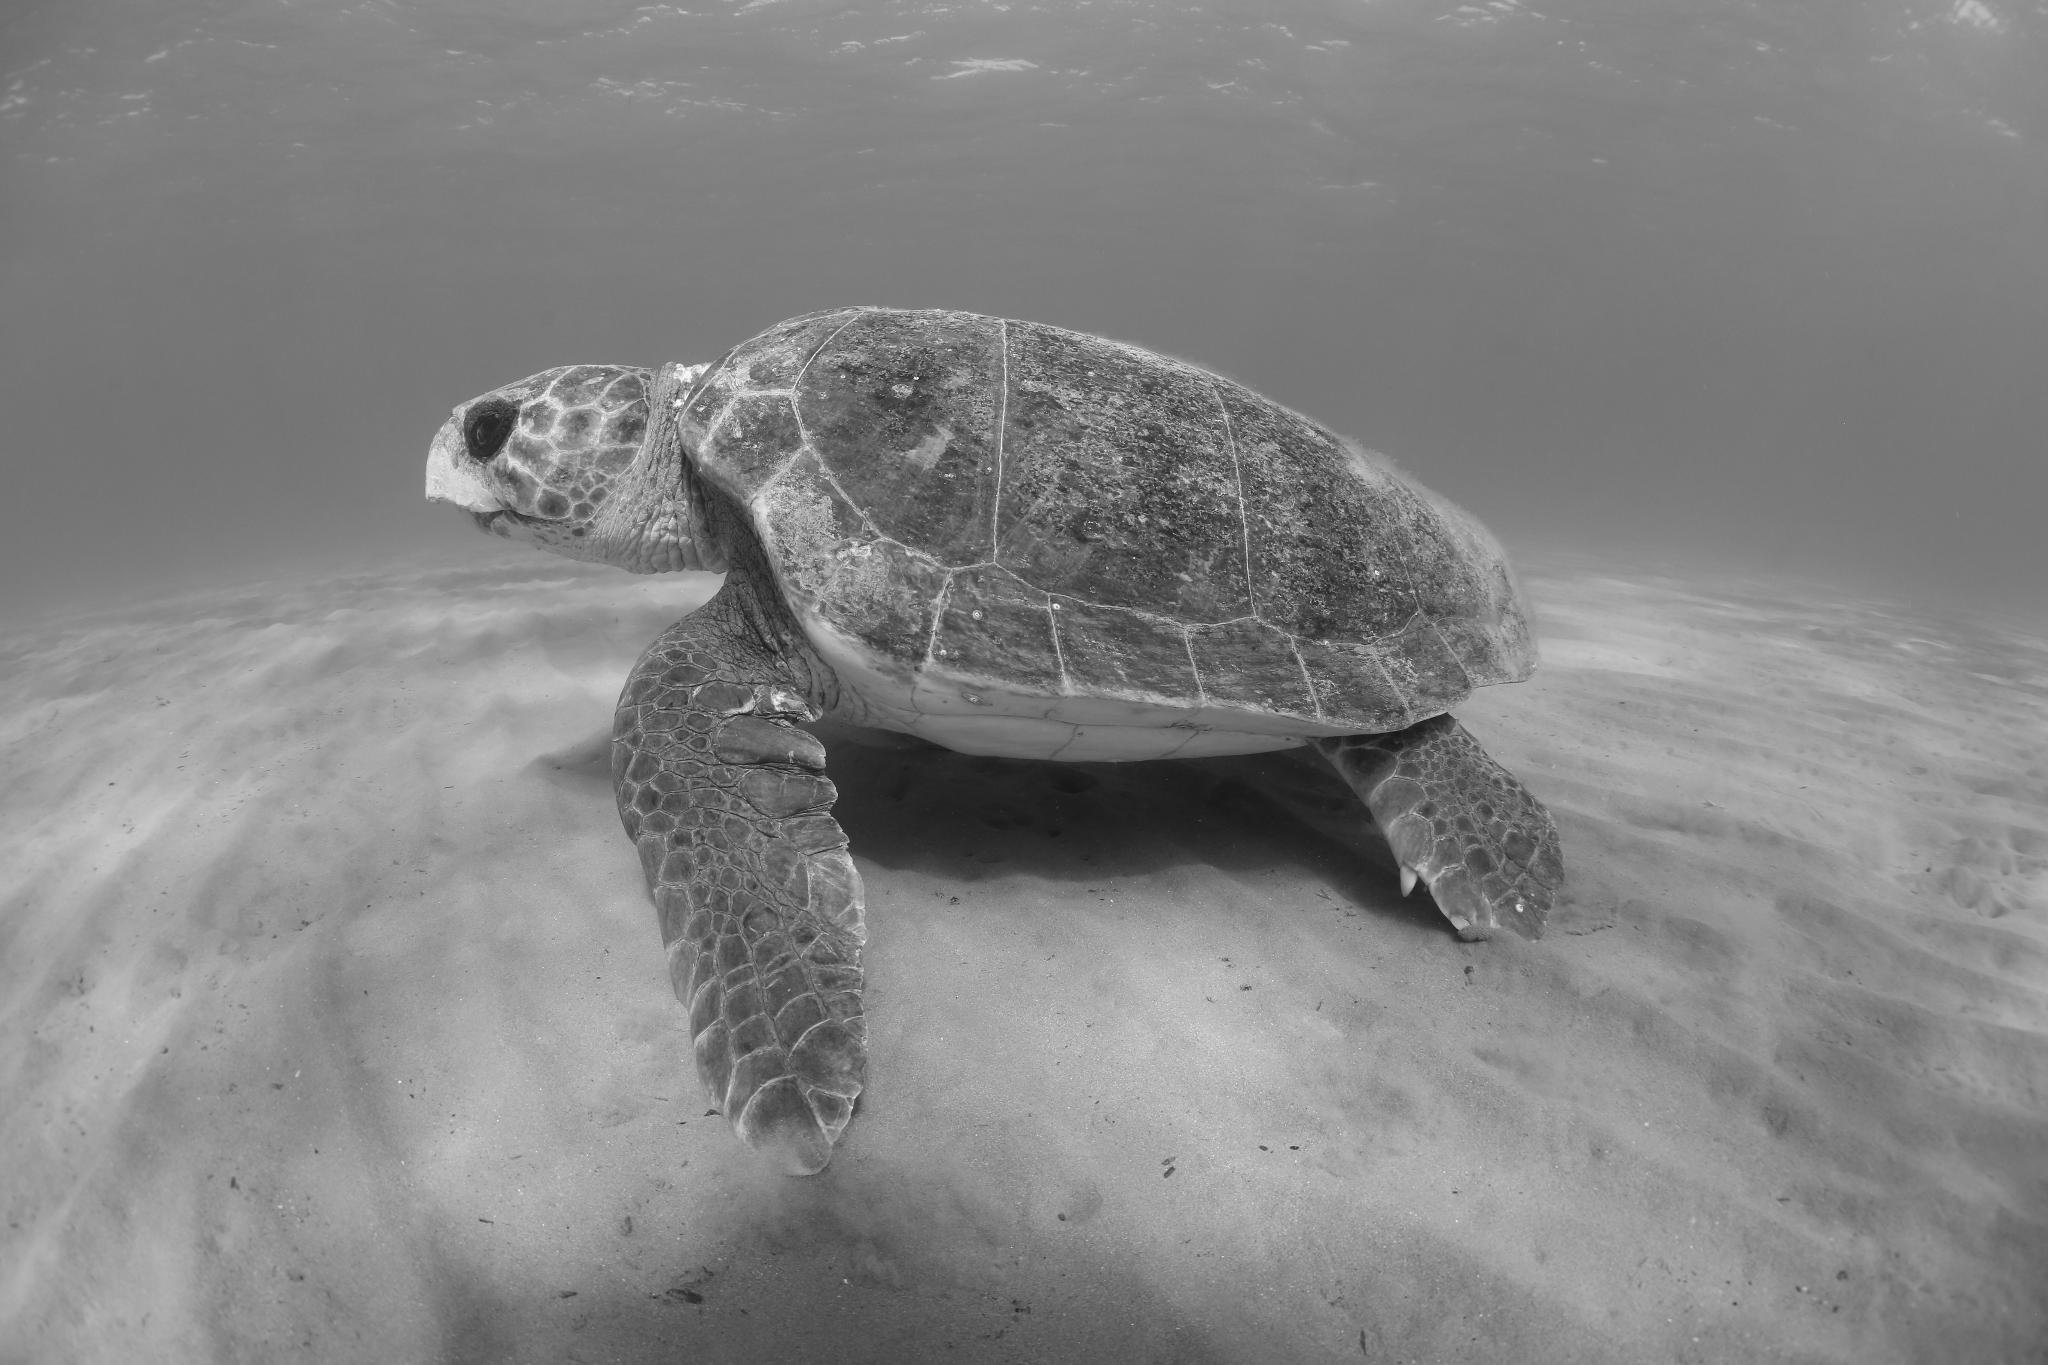Head: (426, 365, 720, 573)
